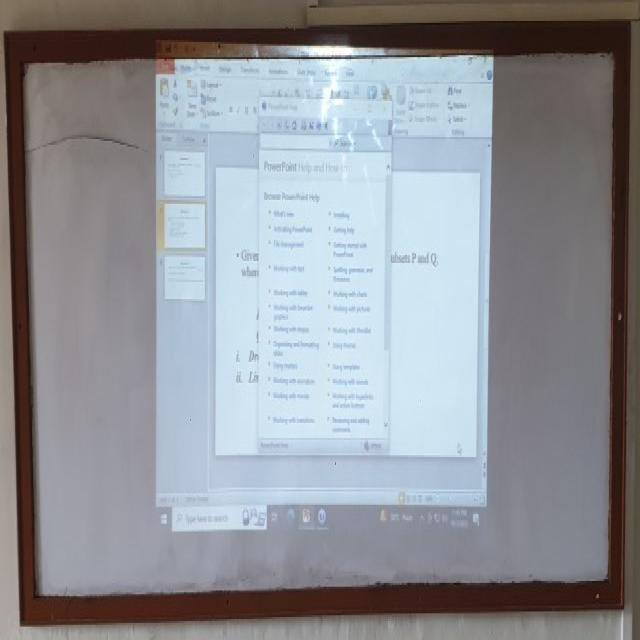Slide: (156, 38, 497, 541)
White-board: (12, 39, 620, 616)
